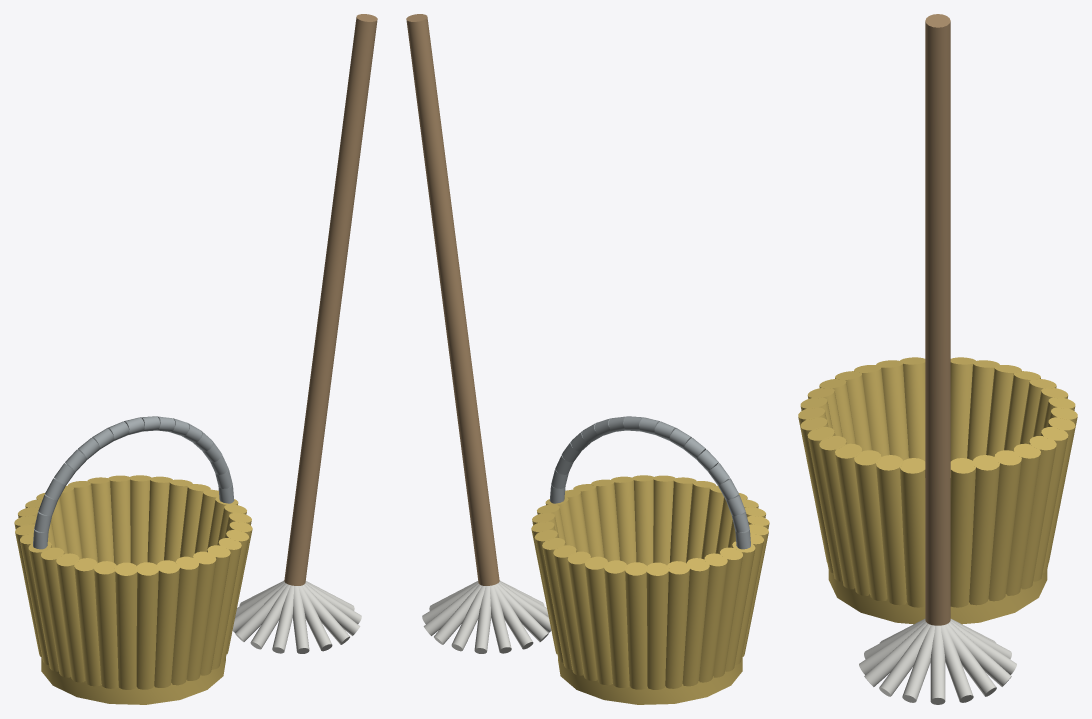
Rendered from mop_and_bucket.glb.
The picture shows the model from 3 angles, left to right: view 1: azimuth 30°, elevation 25°; view 2: azimuth 150°, elevation 25°; view 3: azimuth 270°, elevation 25°; orthographic projection. The views are drawn at different scales.
Visible parts, largest first — view 1: mop_handle_53, bucket_base_1, bucket_wall_24, bucket_wall_23, bucket_wall_22, bucket_wall_25, bucket_wall_21, bucket_wall_26, bucket_wall_20, bucket_wall_27, bucket_wall_19, bucket_wall_28 (+22 smaller); view 2: mop_handle_53, bucket_base_1, bucket_wall_12, bucket_wall_13, bucket_wall_14, bucket_wall_11, bucket_wall_15, bucket_wall_10, bucket_wall_16, bucket_wall_9, bucket_wall_17, bucket_wall_8 (+22 smaller); view 3: mop_handle_53, bucket_base_1, bucket_wall_3, bucket_wall_33, bucket_wall_4, bucket_wall_32, bucket_wall_5, bucket_wall_31, bucket_wall_6, bucket_wall_30, bucket_wall_7, bucket_wall_29 (+27 smaller).
Part boxes in pixels (x1,y1,x2,y2): mop_handle_53: (284,14,377,585); bucket_base_1: (41,657,225,704); bucket_wall_24: (136,562,159,689); bucket_wall_23: (114,562,137,689); bucket_wall_22: (94,561,118,688); bucket_wall_25: (154,560,179,687); bucket_wall_21: (74,558,101,686); bucket_wall_26: (171,556,198,685); bucket_wall_20: (56,553,85,682); bucket_wall_27: (186,551,216,680); bucket_wall_19: (41,547,70,677); bucket_wall_28: (200,545,230,675); mop_handle_53: (406,14,499,585); bucket_base_1: (558,657,742,704); bucket_wall_12: (624,562,647,689); bucket_wall_13: (646,562,669,689); bucket_wall_14: (665,561,689,688); bucket_wall_11: (604,560,629,687); bucket_wall_15: (682,558,709,686); bucket_wall_10: (585,556,612,685); bucket_wall_16: (698,553,727,682); bucket_wall_9: (567,551,597,680); bucket_wall_17: (713,547,742,677); bucket_wall_8: (553,545,583,675); mop_handle_53: (925,14,950,625); bucket_base_1: (828,570,1047,624); bucket_wall_3: (950,458,976,607); bucket_wall_33: (899,458,925,607); bucket_wall_4: (969,455,999,605); bucket_wall_32: (876,455,906,605); bucket_wall_5: (988,450,1021,601); bucket_wall_31: (854,450,887,601); bucket_wall_6: (1006,443,1040,595); bucket_wall_30: (835,443,869,595); bucket_wall_7: (1021,436,1056,589); bucket_wall_29: (819,436,854,589).
Size of the model in its own units: 0.8154 by 1.34 by 0.4865.
